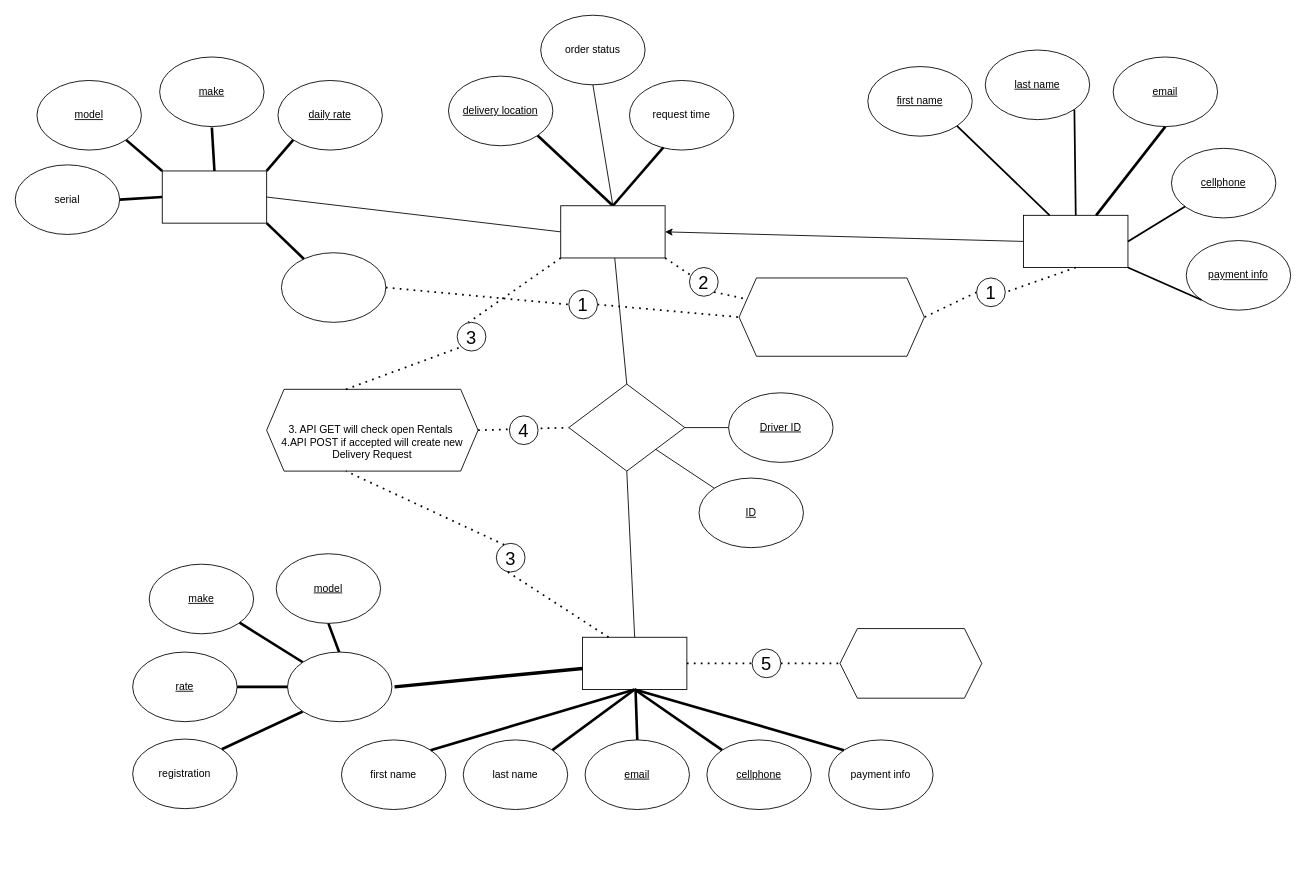
The diagram is 1306 pixels wide and 894 high, and some of its shapes have lost their labels. The box of each missing label's shape, as (x1, y1, x2, y2) in pixels:
1. API GET will check Equiment if available 2.POST will post to Rental table: (738, 277, 924, 356)
5. API POST will confirm rental delivery: (839, 628, 982, 698)
available: (281, 252, 386, 322)
Customer: (1023, 214, 1128, 268)
Driver: (582, 636, 687, 689)
Equipments: (161, 170, 267, 223)
order/driver (LT): (568, 383, 685, 471)
Orders: (560, 205, 665, 258)
Truck: (287, 651, 392, 722)
